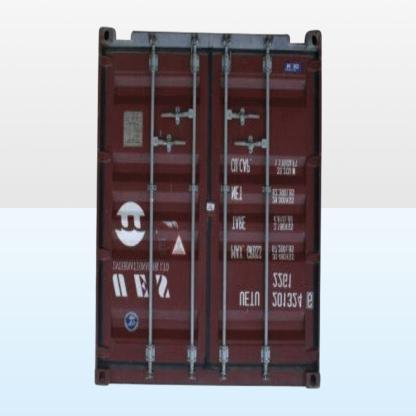Damage: (108, 360, 202, 378), (268, 356, 316, 380), (153, 224, 175, 265), (166, 176, 176, 203)
